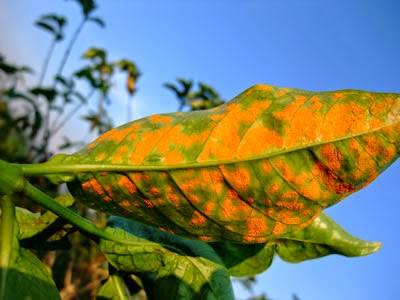roya: (68, 106, 386, 242)
